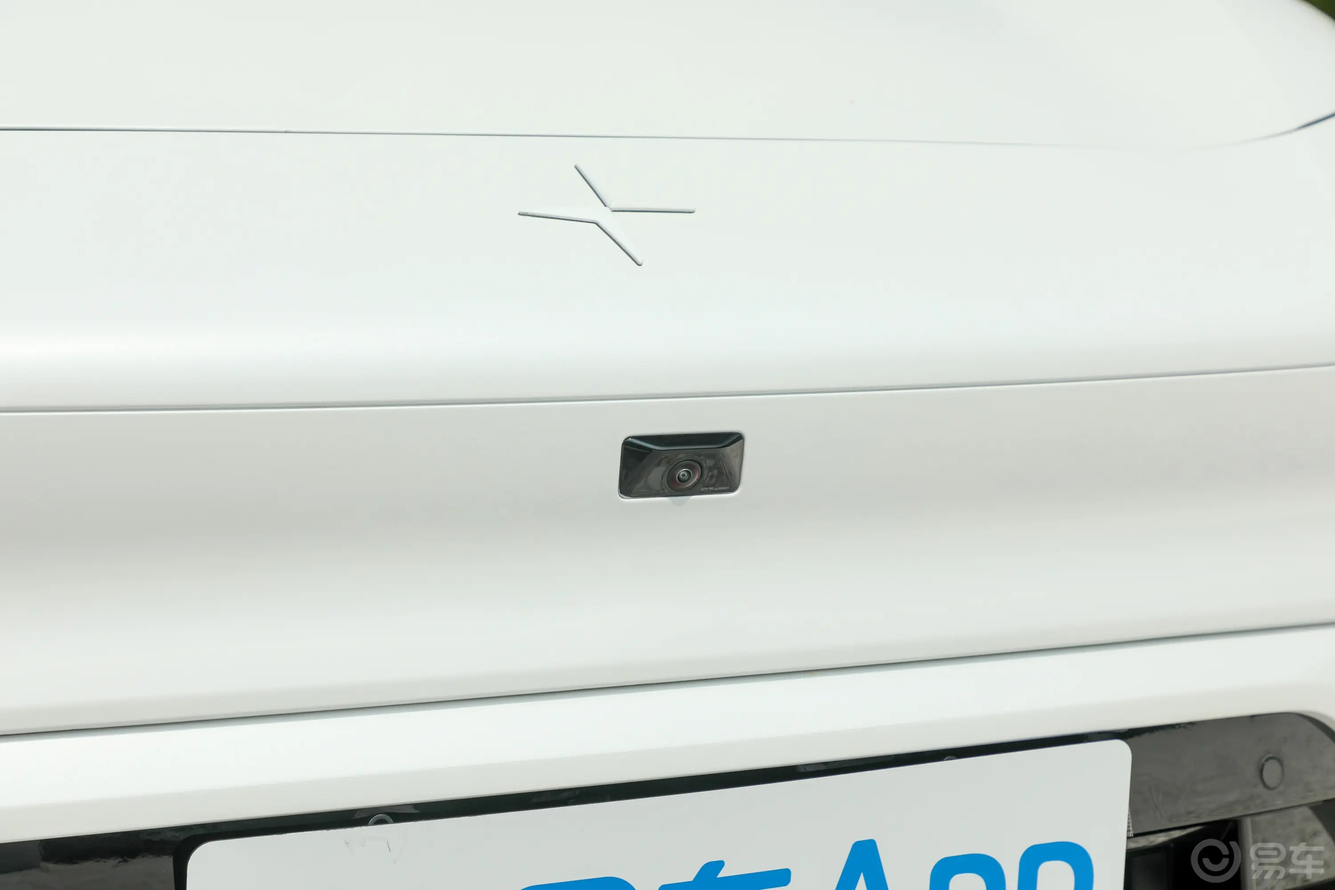Polestar: (519, 164, 695, 266)
